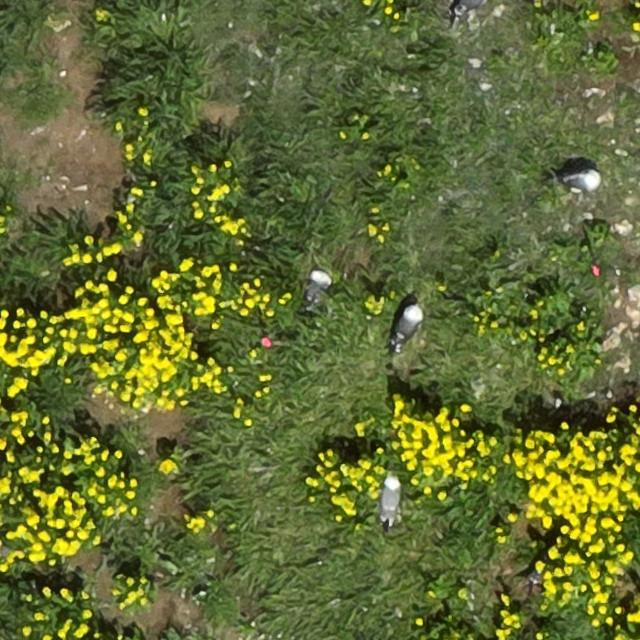umineko: (396, 304, 420, 341), (378, 477, 398, 521), (568, 170, 600, 190), (309, 270, 330, 300), (457, 0, 485, 10)
